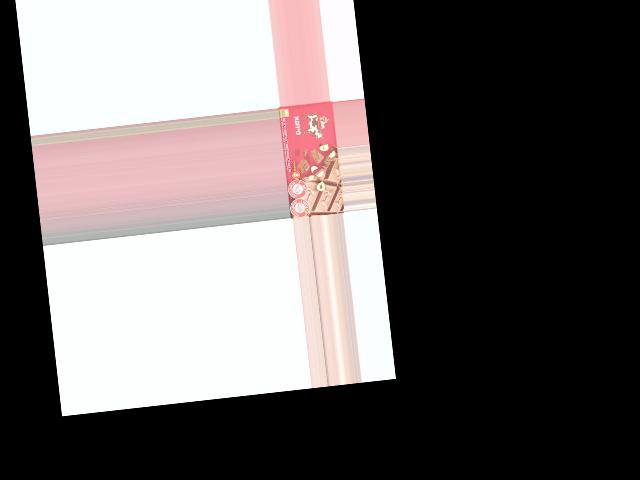chocolate: (279, 100, 344, 218)
